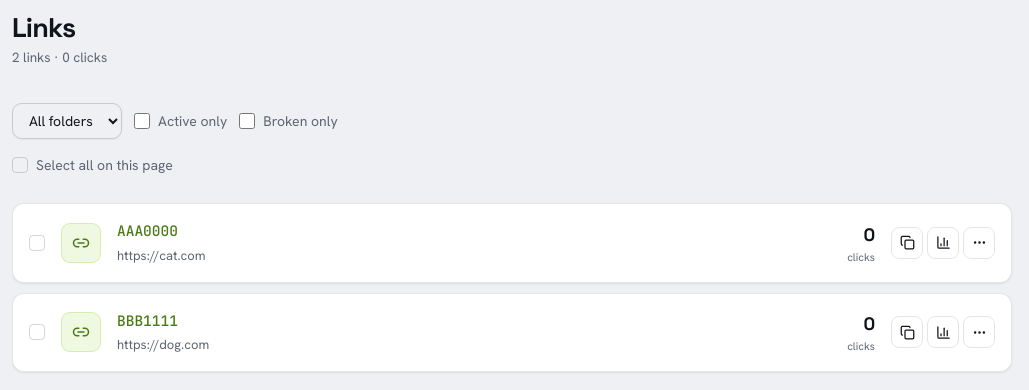
Scenario: Links › filters by active status via the API (?status=active in the querystring)
Expected: the link "AAA0000" is shown, [117,220,178,242]
Click the checkbox labelled "Active only".
click(142, 121)  # box [134,113,150,129]
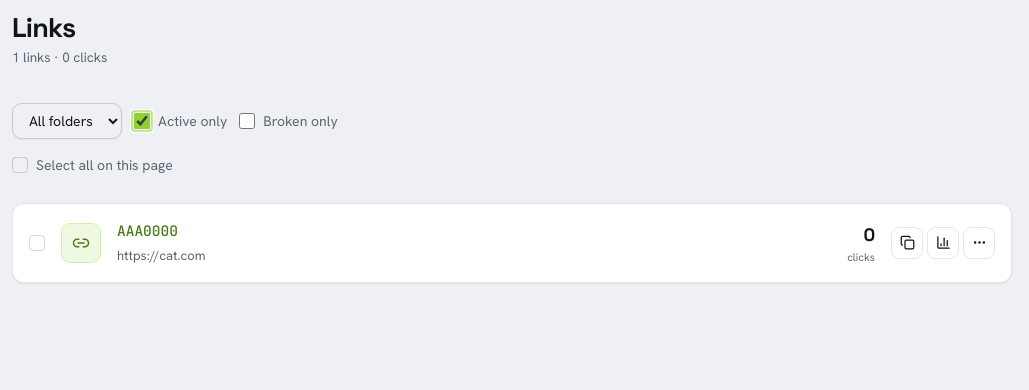
Expected: the link "AAA0000" is shown, [117,220,178,242]
Expected: the link "BBB1111" is gone
